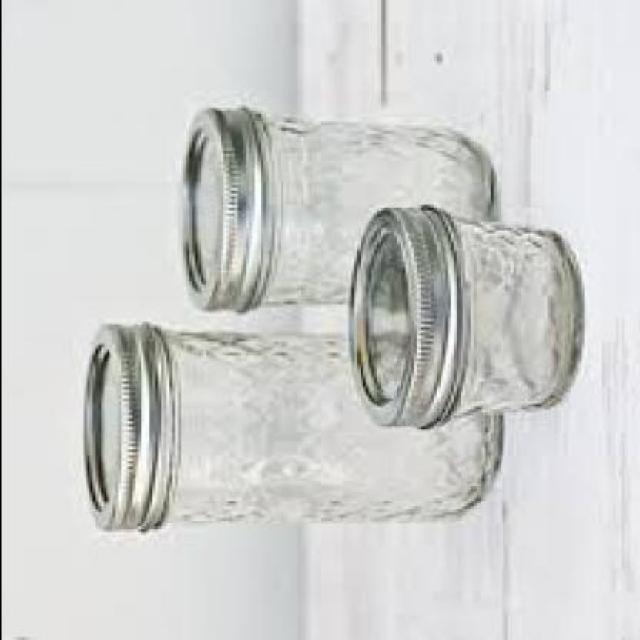GLASS: (174, 335, 497, 526), (256, 116, 494, 304), (455, 223, 585, 415)
METAL: (349, 208, 466, 431), (83, 323, 180, 535), (183, 108, 268, 312)
